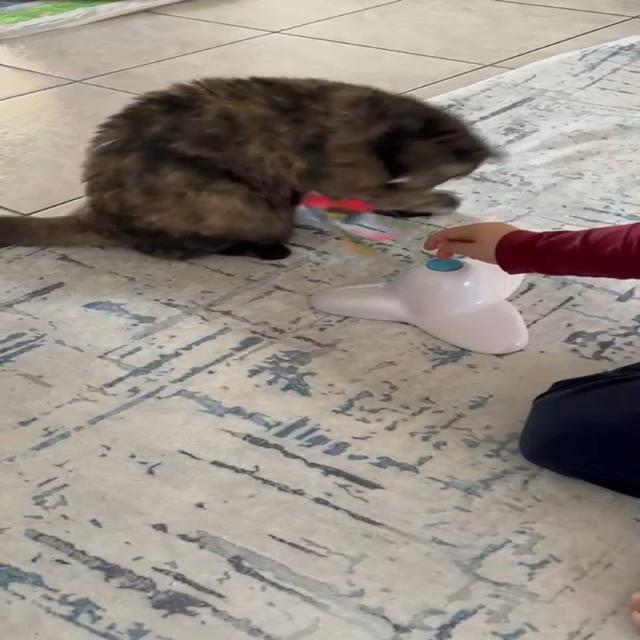authorized: (0, 74, 497, 261)
